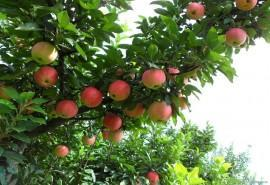apple: (30, 40, 58, 65), (32, 65, 58, 87), (141, 68, 165, 88), (224, 27, 247, 47), (149, 101, 172, 120), (82, 87, 103, 107), (108, 80, 129, 100), (56, 100, 78, 117), (186, 1, 204, 19), (104, 114, 122, 130), (235, 1, 256, 10), (54, 145, 68, 156)
